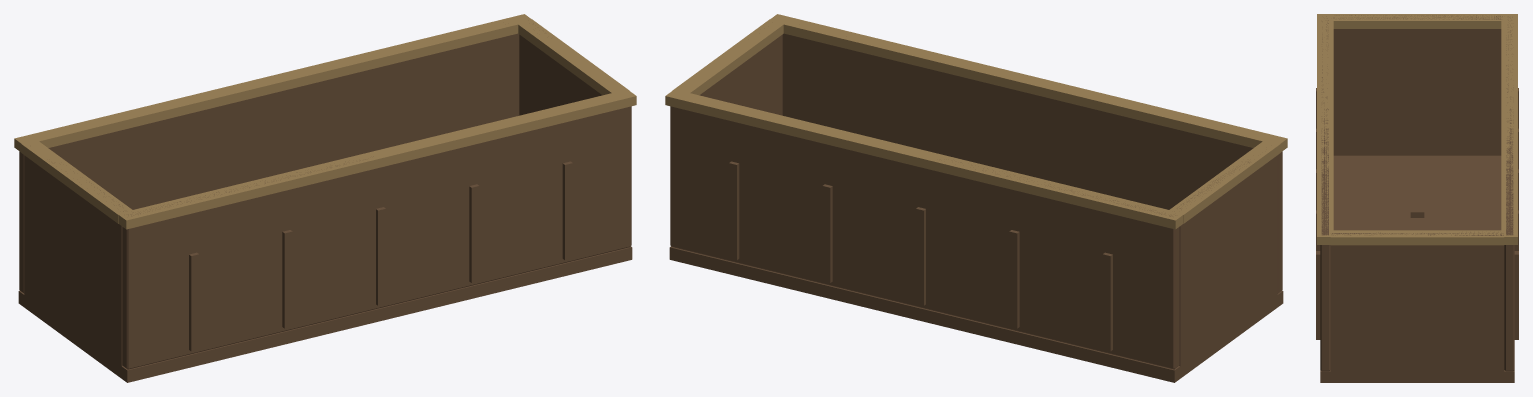
The model's file is vessel-trough.glb.
3 renders of one model, left to right at view 1: azimuth 30°, elevation 25°; view 2: azimuth 150°, elevation 25°; view 3: azimuth 270°, elevation 25°, orthographic. The views are drawn at different scales.
Visible parts, largest first — view 1: vessel-trough/front-complete-wall, vessel-trough/back-complete-wall, vessel-trough/left-complete-wall, vessel-trough/front-top-rim, vessel-trough/back-top-rim, vessel-trough/right-complete-wall, vessel-trough/drained-floor-panel-2-0, vessel-trough/drained-floor-panel-0-0, vessel-trough/end-top-rim--1, vessel-trough/end-top-rim-1, vessel-trough/drained-floor-panel-4-0, vessel-trough/long-wall-stiffening-rib--1-0 (+5 smaller); view 2: vessel-trough/back-complete-wall, vessel-trough/front-complete-wall, vessel-trough/left-complete-wall, vessel-trough/back-top-rim, vessel-trough/front-top-rim, vessel-trough/right-complete-wall, vessel-trough/drained-floor-panel-2-2, vessel-trough/drained-floor-panel-0-2, vessel-trough/end-top-rim--1, vessel-trough/end-top-rim-1, vessel-trough/drained-floor-panel-4-2, vessel-trough/long-wall-stiffening-rib-1-0 (+5 smaller); view 3: vessel-trough/right-complete-wall, vessel-trough/left-complete-wall, vessel-trough/drained-floor-panel-0-0, vessel-trough/drained-floor-panel-0-2, vessel-trough/back-top-rim, vessel-trough/front-top-rim, vessel-trough/end-top-rim-1, vessel-trough/end-top-rim--1, vessel-trough/front-complete-wall, vessel-trough/back-complete-wall, vessel-trough/drained-floor-panel-4-0, vessel-trough/drained-floor-panel-4-2 (+8 smaller).
Boxes of the visible parts, x1,y1,x2,y2 form: vessel-trough/front-complete-wall: (122,106,631,369); vessel-trough/back-complete-wall: (19,33,519,293); vessel-trough/left-complete-wall: (24,155,123,366); vessel-trough/front-top-rim: (117,89,636,229); vessel-trough/back-top-rim: (14,14,533,152); vessel-trough/right-complete-wall: (519,23,602,115); vessel-trough/drained-floor-panel-2-0: (280,284,479,345); vessel-trough/drained-floor-panel-0-0: (77,334,266,382); vessel-trough/end-top-rim--1: (21,140,132,223); vessel-trough/end-top-rim-1: (517,19,629,95); vessel-trough/drained-floor-panel-4-0: (492,246,632,293); vessel-trough/long-wall-stiffening-rib--1-0: (189,252,199,351); vessel-trough/back-complete-wall: (670,106,1179,369); vessel-trough/front-complete-wall: (782,33,1282,293); vessel-trough/left-complete-wall: (1174,155,1277,366); vessel-trough/back-top-rim: (665,89,1184,229); vessel-trough/front-top-rim: (768,14,1287,152); vessel-trough/right-complete-wall: (699,34,782,115); vessel-trough/drained-floor-panel-2-2: (822,284,1021,345); vessel-trough/drained-floor-panel-0-2: (1035,334,1224,382); vessel-trough/end-top-rim--1: (1169,140,1280,223); vessel-trough/end-top-rim-1: (672,19,784,95); vessel-trough/drained-floor-panel-4-2: (669,246,809,293); vessel-trough/long-wall-stiffening-rib-1-0: (1102,252,1112,351); vessel-trough/right-complete-wall: (1330,232,1504,371); vessel-trough/left-complete-wall: (1333,15,1502,155); vessel-trough/drained-floor-panel-0-0: (1333,155,1410,212); vessel-trough/drained-floor-panel-0-2: (1424,155,1501,212); vessel-trough/back-top-rim: (1501,14,1517,244); vessel-trough/front-top-rim: (1317,14,1333,244); vessel-trough/end-top-rim-1: (1330,230,1504,245); vessel-trough/end-top-rim--1: (1330,14,1503,28); vessel-trough/front-complete-wall: (1320,16,1330,371); vessel-trough/back-complete-wall: (1504,16,1514,371); vessel-trough/drained-floor-panel-4-0: (1320,370,1410,382); vessel-trough/drained-floor-panel-4-2: (1424,370,1514,382).
Bounding box in the file's own units: 0.771 × 0.237 × 0.296.
Materials: 2 (2 with a texture image).
